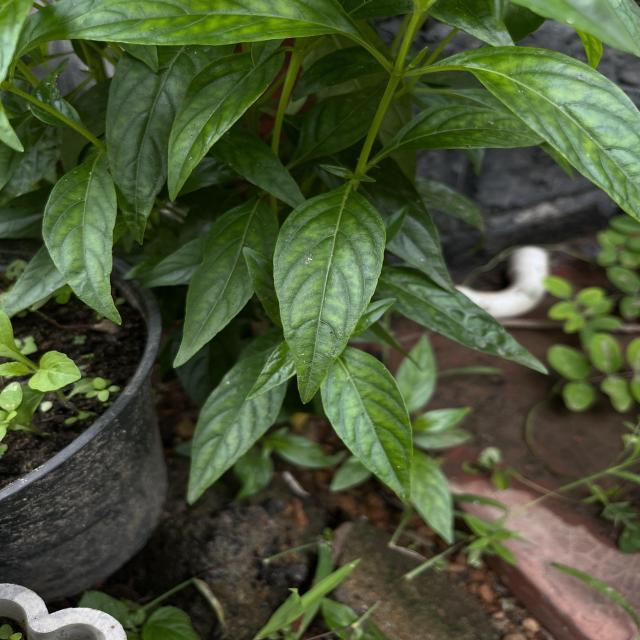Andrographis paniculata: (444, 41, 640, 228), (270, 182, 389, 404), (164, 44, 284, 205), (382, 268, 552, 378), (172, 193, 276, 372), (185, 346, 289, 507), (24, 0, 364, 47), (318, 344, 415, 504), (39, 156, 126, 330), (213, 132, 306, 206)
